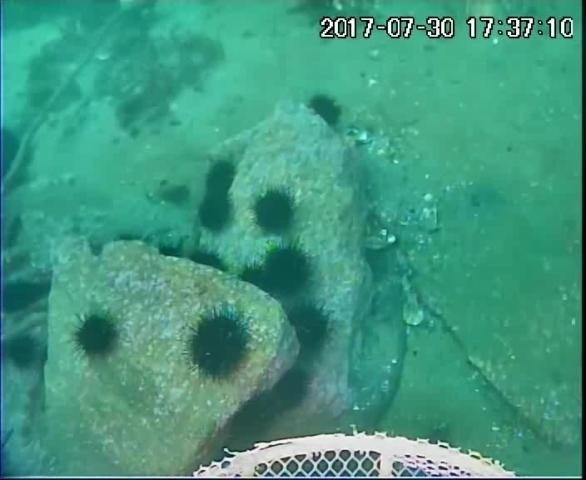echinus: (183, 307, 255, 383), (283, 299, 335, 358), (1, 122, 38, 197), (70, 310, 123, 362), (249, 185, 300, 238), (267, 243, 318, 288), (1, 274, 52, 318), (268, 365, 314, 413), (236, 261, 283, 304), (201, 157, 241, 205), (1, 330, 43, 374), (195, 192, 236, 236), (304, 91, 346, 131), (184, 244, 229, 278), (157, 180, 194, 210)
